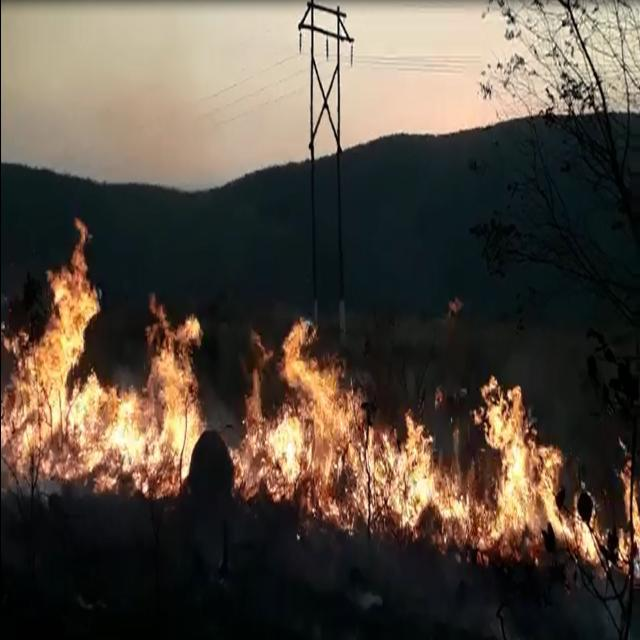Fire: (242, 325, 638, 571), (2, 215, 204, 500), (474, 360, 527, 462), (230, 376, 272, 504), (576, 498, 602, 572), (170, 316, 207, 358)
